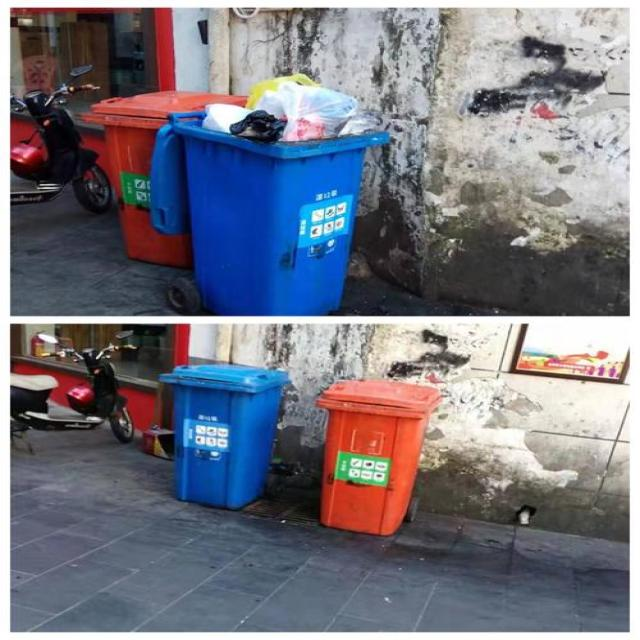garbage_bin: (78, 89, 247, 266), (316, 378, 439, 536), (159, 364, 288, 508)
overflow: (148, 72, 386, 315)
